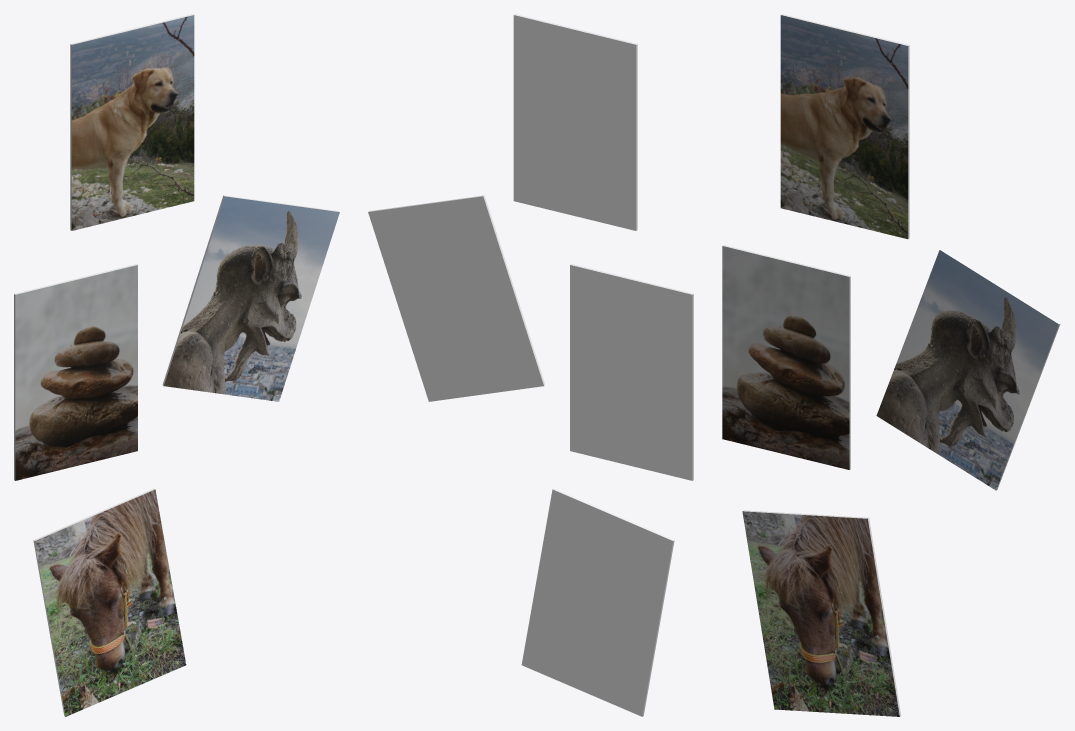
Rendered from Photos.FBX.
3 views of the same model, side by side, from view 1: azimuth 30°, elevation 25°; view 2: azimuth 150°, elevation 25°; view 3: azimuth 330°, elevation 25° (orthographic). The views are drawn at different scales.
Parts seen in each view (by area): view 1: Photo 1, Photo 2, Photo 4, Photo 3; view 2: Photo 1, Photo 2, Photo 4, Photo 3; view 3: Photo 1, Photo 4, Photo 2, Photo 3.
Boxes of the visible parts, <box> form: Photo 1: <box>70,14,194,230</box>; Photo 2: <box>162,195,339,401</box>; Photo 4: <box>33,488,186,716</box>; Photo 3: <box>14,264,137,480</box>; Photo 1: <box>513,14,637,230</box>; Photo 2: <box>368,195,545,401</box>; Photo 4: <box>521,488,674,716</box>; Photo 3: <box>570,264,693,480</box>; Photo 1: <box>780,14,909,239</box>; Photo 4: <box>742,510,901,716</box>; Photo 2: <box>876,249,1060,490</box>; Photo 3: <box>722,245,850,469</box>.
Bounding box in the file's own units: 37.04 × 73.11 × 0.2613.
Materials: 1 (1 with a texture image).
